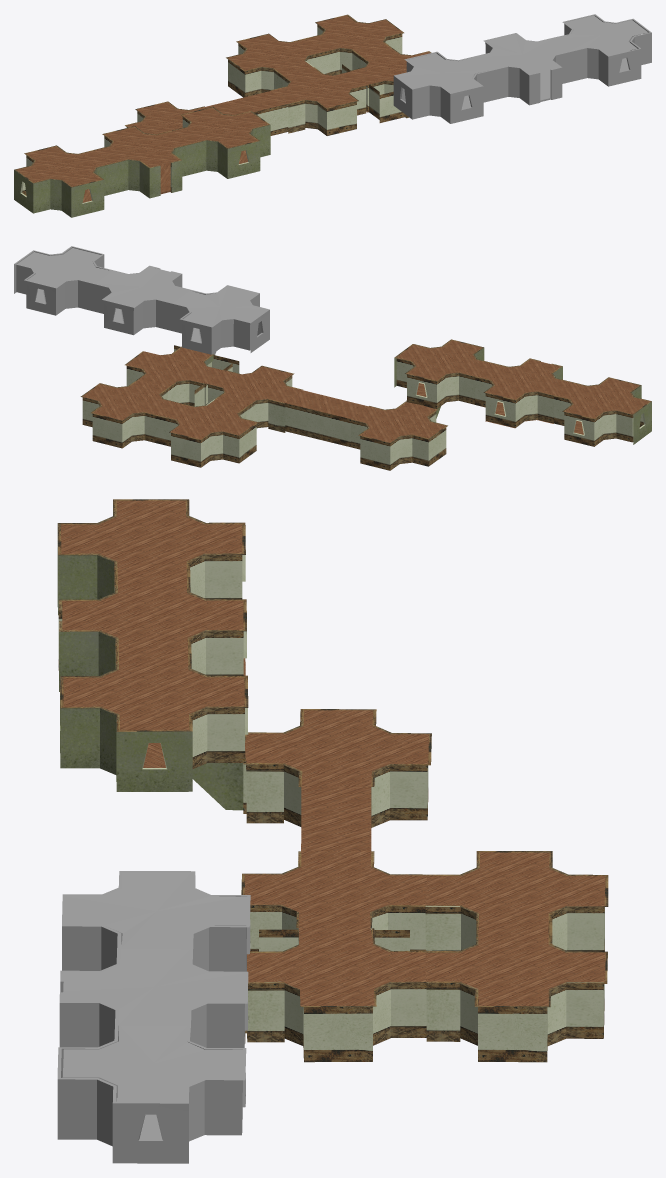
Rendered from CasaGigante.fbx.
The picture shows the model from 3 angles, top to bottom: view 1: azimuth 30°, elevation 25°; view 2: azimuth 150°, elevation 25°; view 3: azimuth 270°, elevation 25°; orthographic projection. The views are drawn at different scales.
Visible parts, largest first — view 1: CasaEntera, Puerta, Puerta1; view 2: CasaEntera, Puerta; view 3: CasaEntera, Puerta1.
Part boxes in pixels (x1=…): CasaEntera: x1=14, y1=14, x2=651, y2=217; Puerta: x1=379, y1=91, x2=407, y2=122; Puerta1: x1=342, y1=64, x2=379, y2=119; CasaEntera: x1=14, y1=246, x2=651, y2=470; Puerta: x1=174, y1=345, x2=239, y2=373; CasaEntera: x1=57, y1=499, x2=608, y2=1163; Puerta1: x1=259, y1=929, x2=409, y2=951.
Bounding box in the file's own units: 3525 × 318 × 1358.
Materials: 2 (1 with a texture image).
